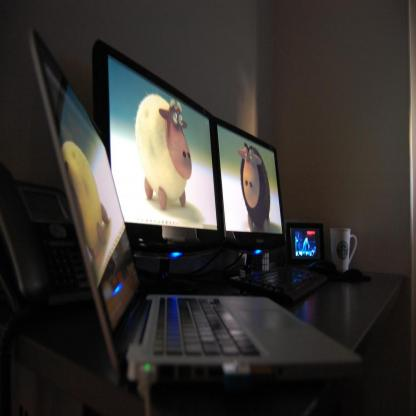board: (29, 29, 362, 389)
